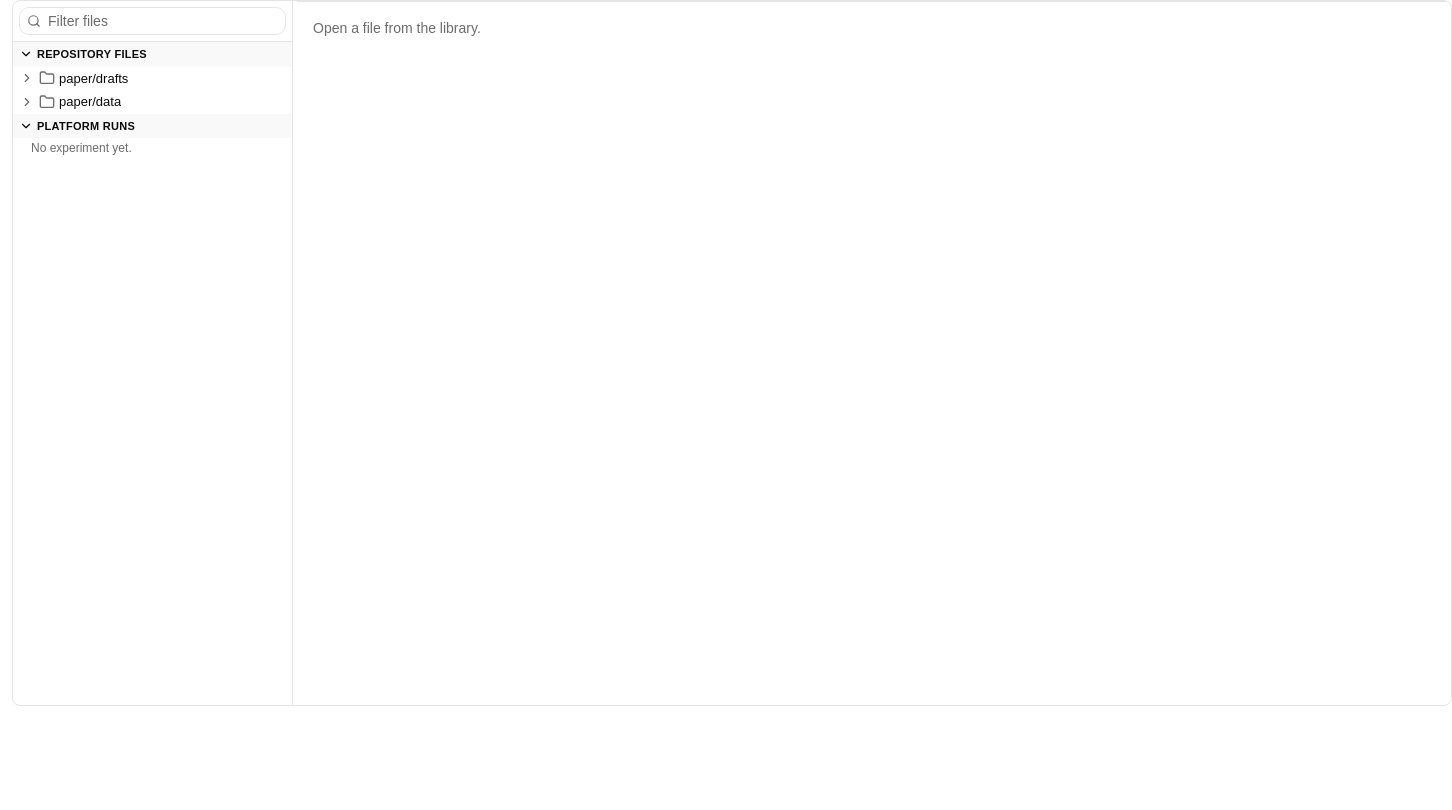
files page › filters by file name
expect the button "paper/drafts" is shown: met, box [13, 66, 292, 90]
Type "a.py" into the field labelled "Filter files" at (152, 21), box [19, 7, 286, 35]
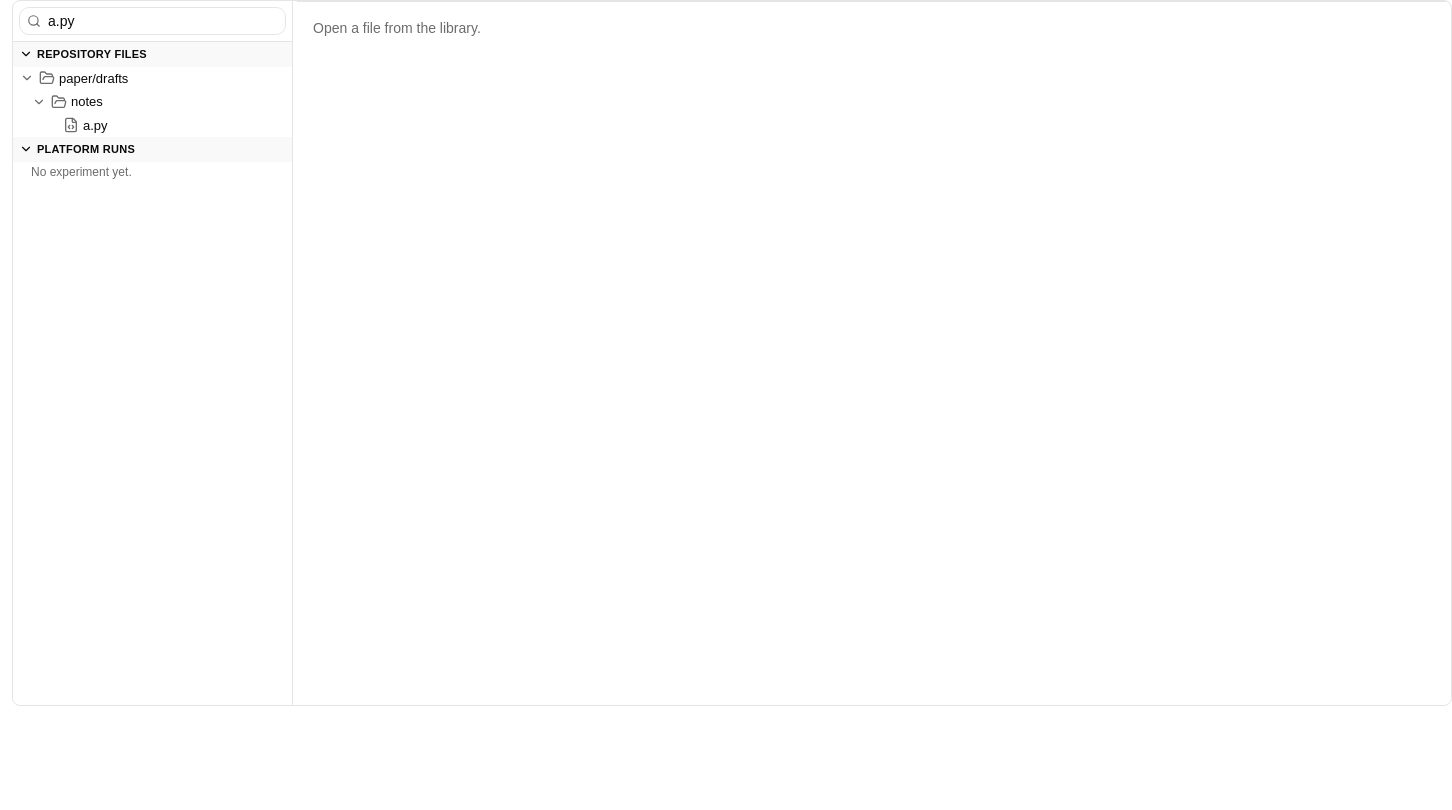
expect the button "a.py" is shown: met, box [13, 114, 292, 137]
